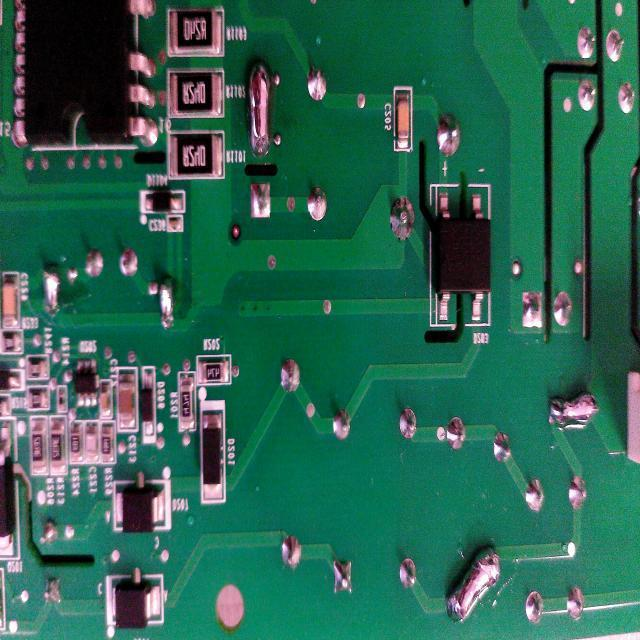Soldering shorted: (442, 541, 505, 625), (246, 51, 276, 157), (546, 382, 601, 439), (44, 266, 62, 322), (160, 272, 174, 332)
